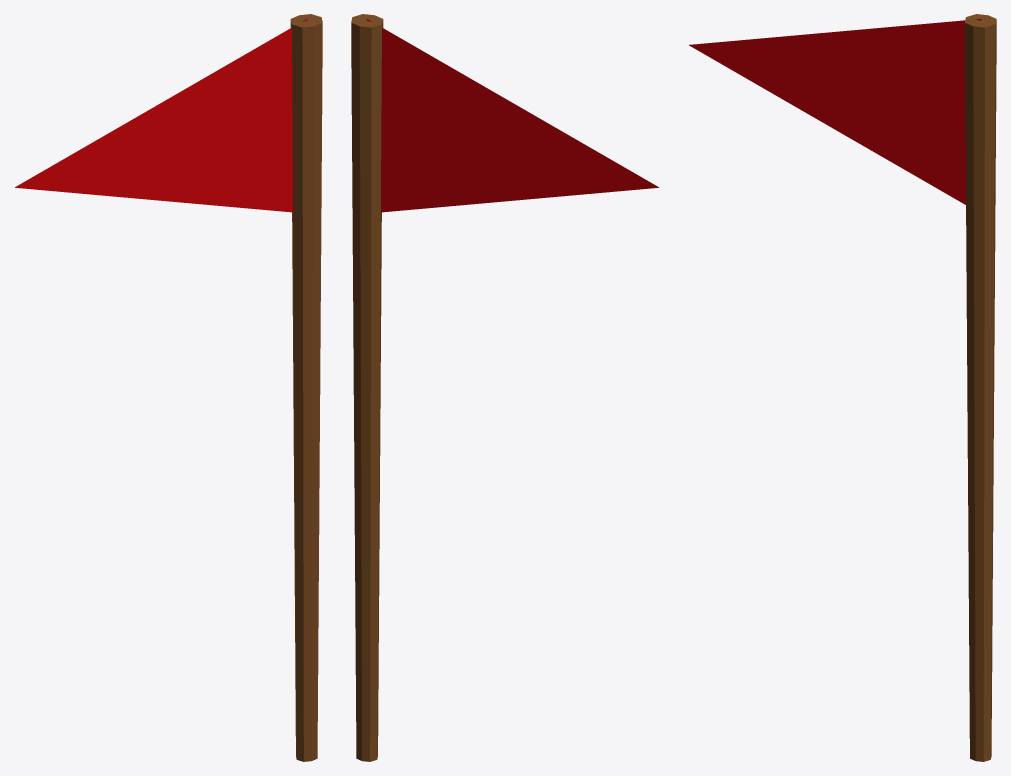
The model's file is Bandeira.fbx.
3 renders of one model, left to right at view 1: azimuth 30°, elevation 25°; view 2: azimuth 150°, elevation 25°; view 3: azimuth 330°, elevation 25°, orthographic.
Visible parts, largest first — view 1: Plane; view 2: Plane; view 3: Plane.
Boxes of the visible parts, x1,y1,x2,y2 form: Plane: (15,14,322,761); Plane: (351,14,658,761); Plane: (689,14,996,761).
Size of the model in its own units: 79.5 by 183 by 6.76.
